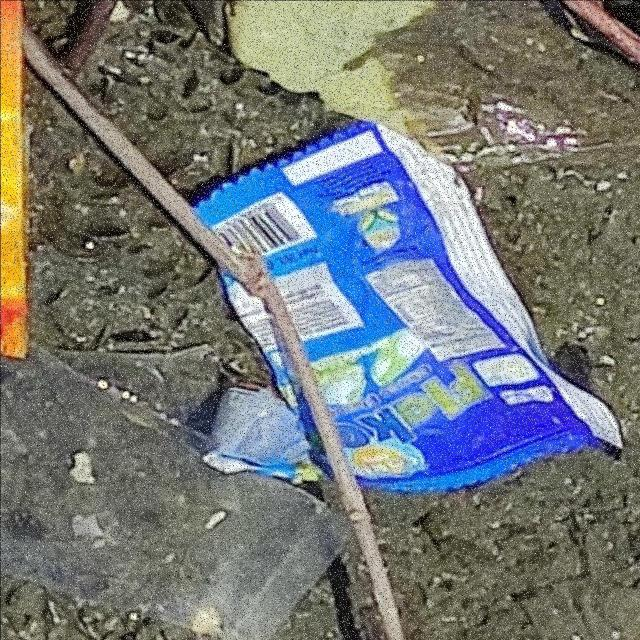plastic_waste: (175, 117, 604, 497)
